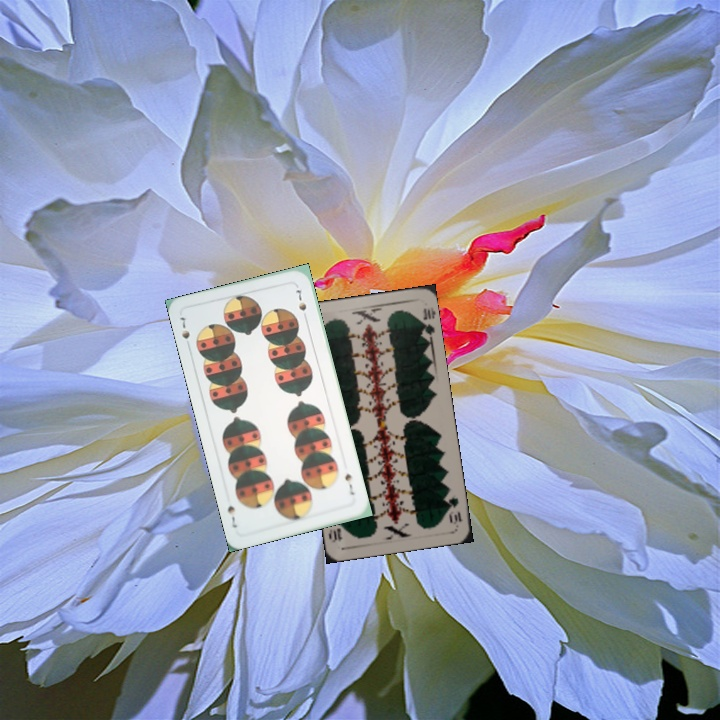G10: (443, 493, 465, 527)
S7: (175, 313, 192, 341), (341, 469, 357, 498)
